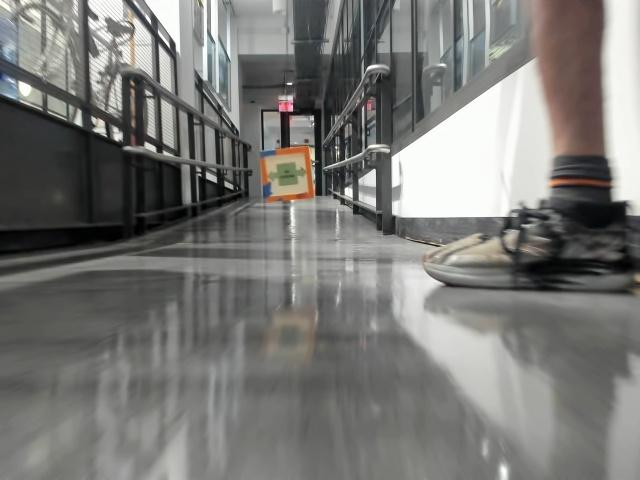Go Around: (267, 166, 304, 187)
